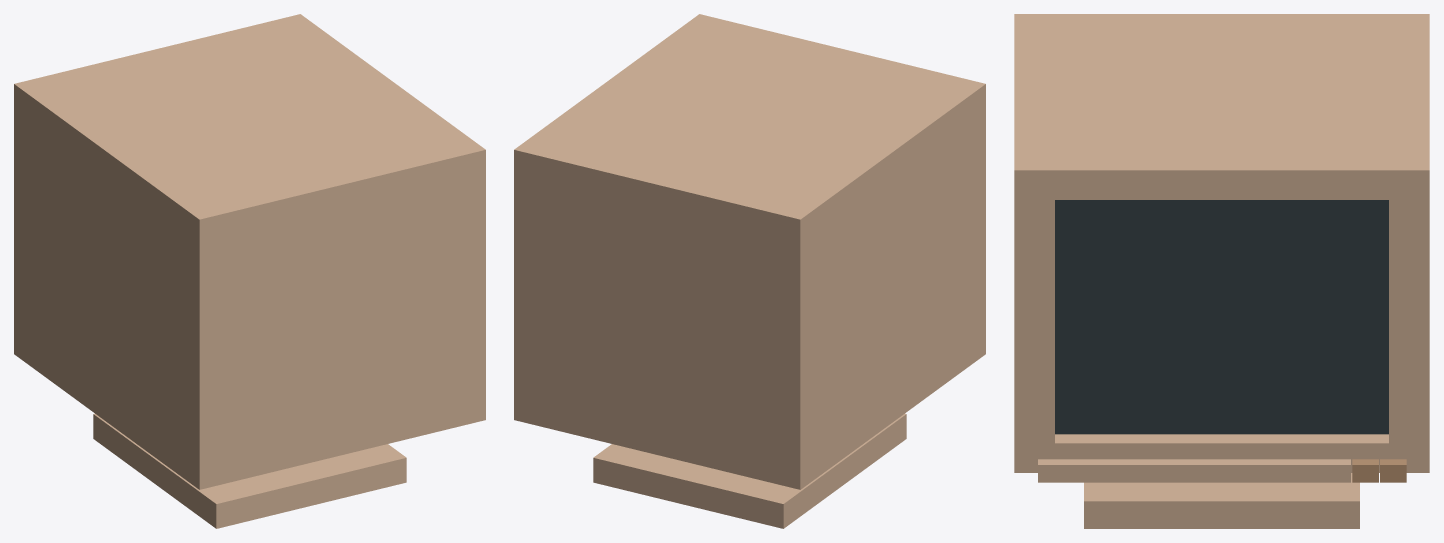
The model's file is SM_ComputerMonitor.fbx.
The picture shows the model from 3 angles, left to right: view 1: azimuth 30°, elevation 25°; view 2: azimuth 150°, elevation 25°; view 3: azimuth 270°, elevation 25°; orthographic projection. The views are drawn at different scales.
Visible parts, largest first — view 1: SM_ComputerMonitor; view 2: SM_ComputerMonitor; view 3: SM_ComputerMonitor.
Part boxes in pixels (x1,y1,x2,y2): SM_ComputerMonitor: (14, 14, 485, 528); SM_ComputerMonitor: (514, 14, 985, 528); SM_ComputerMonitor: (1014, 14, 1429, 528).
Bounding box in the file's own units: 0.4737 × 0.5248 × 0.5131.
Materials: 1 (1 with a texture image).
